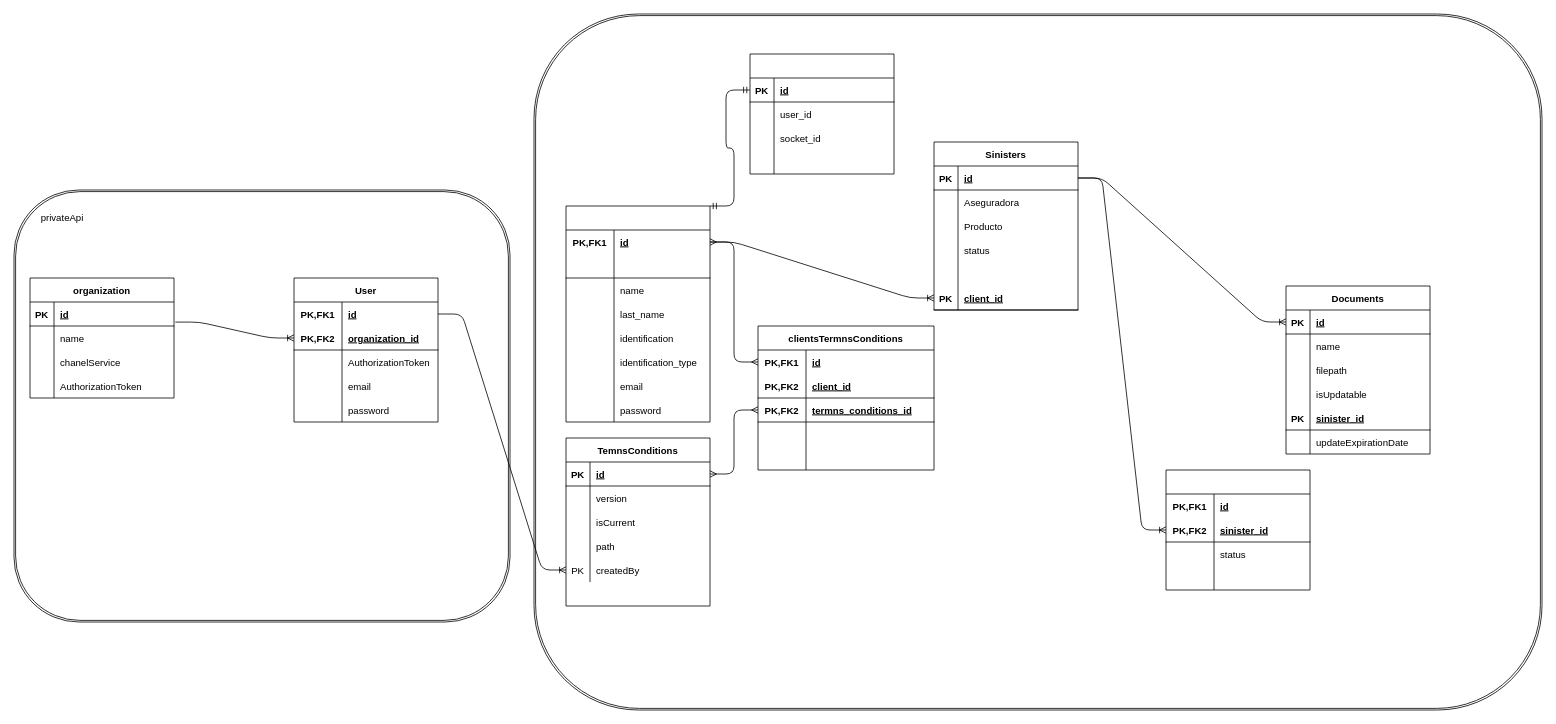
This 1556x724 diagram has some shape labels left out. The box of each missing label's shape, as (x1, y1, x2, y2) in pixels:
clients: (565, 205, 710, 422)
conections: (749, 53, 894, 174)
History: (1165, 469, 1310, 590)
